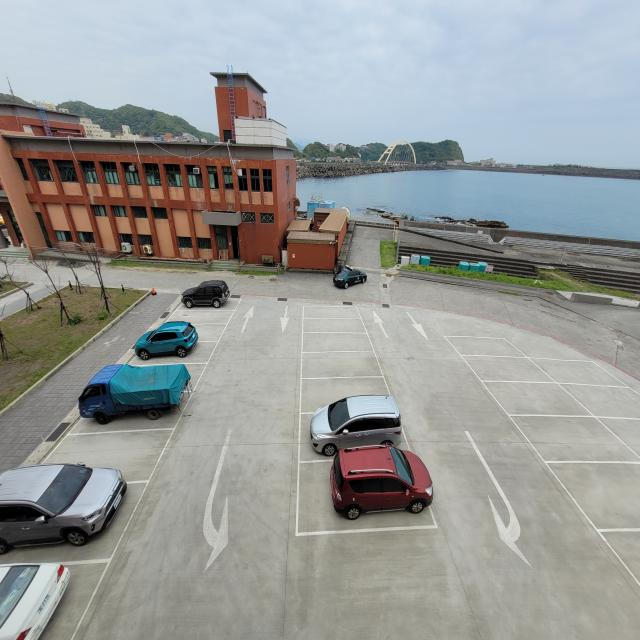car: (0, 464, 132, 554), (327, 444, 437, 526), (79, 360, 192, 423), (304, 389, 407, 452), (0, 560, 75, 640), (133, 322, 194, 359), (181, 279, 233, 313), (330, 264, 371, 292)
